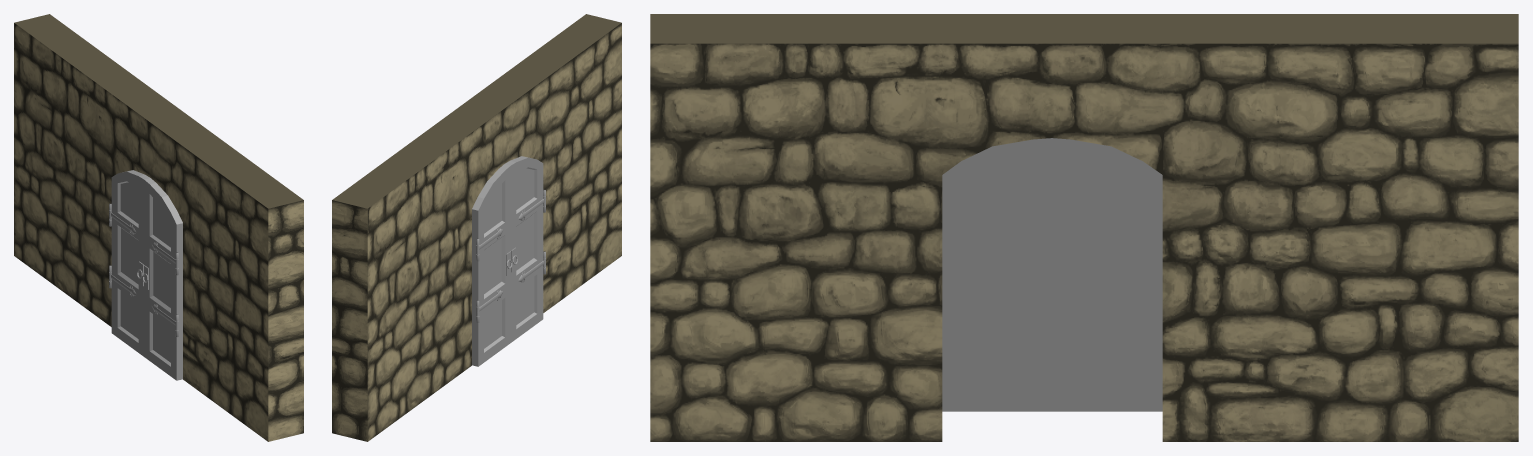
File: wallDoor.fbx
3 views of the same model, side by side, from view 1: azimuth 30°, elevation 25°; view 2: azimuth 150°, elevation 25°; view 3: azimuth 270°, elevation 25° (orthographic). The views are drawn at different scales.
Visible parts, largest first — view 1: wall1, pCube21 (×2); view 2: wall1, pCube21 (×2); view 3: wall1, pCube21 (×2).
Boxes of the visible parts, x1,y1,x2,y2 form: wall1: (14,14,303,441); pCube21 (×2): (111,170,182,380); wall1: (332,14,621,441); pCube21 (×2): (472,156,543,366); wall1: (650,14,1518,441); pCube21 (×2): (942,138,1162,411).
Size of the model in its own units: 0.8163 by 4.04 by 7.98.
